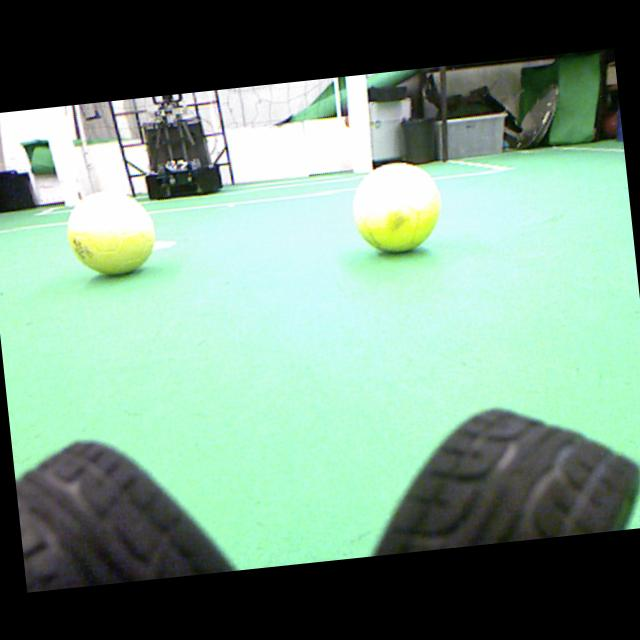ball: (353, 164, 440, 252), (67, 191, 155, 275)
goal: (40, 106, 80, 206), (350, 74, 372, 174)
robot: (141, 93, 221, 200)
